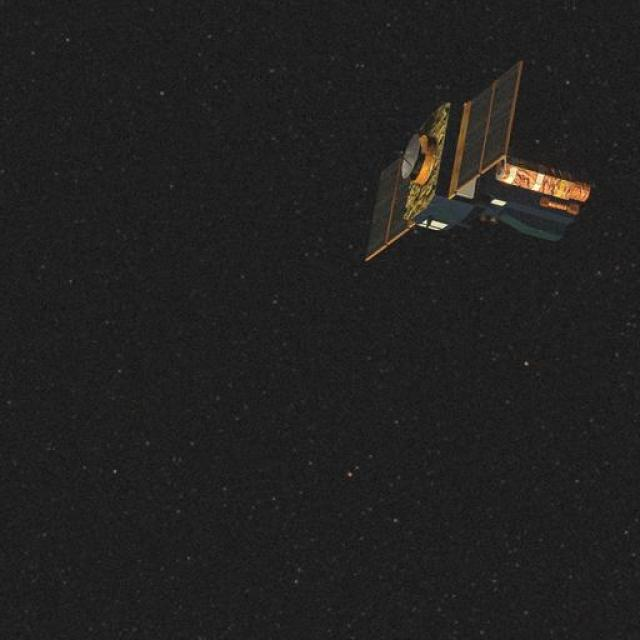soho: (342, 70, 606, 286)
